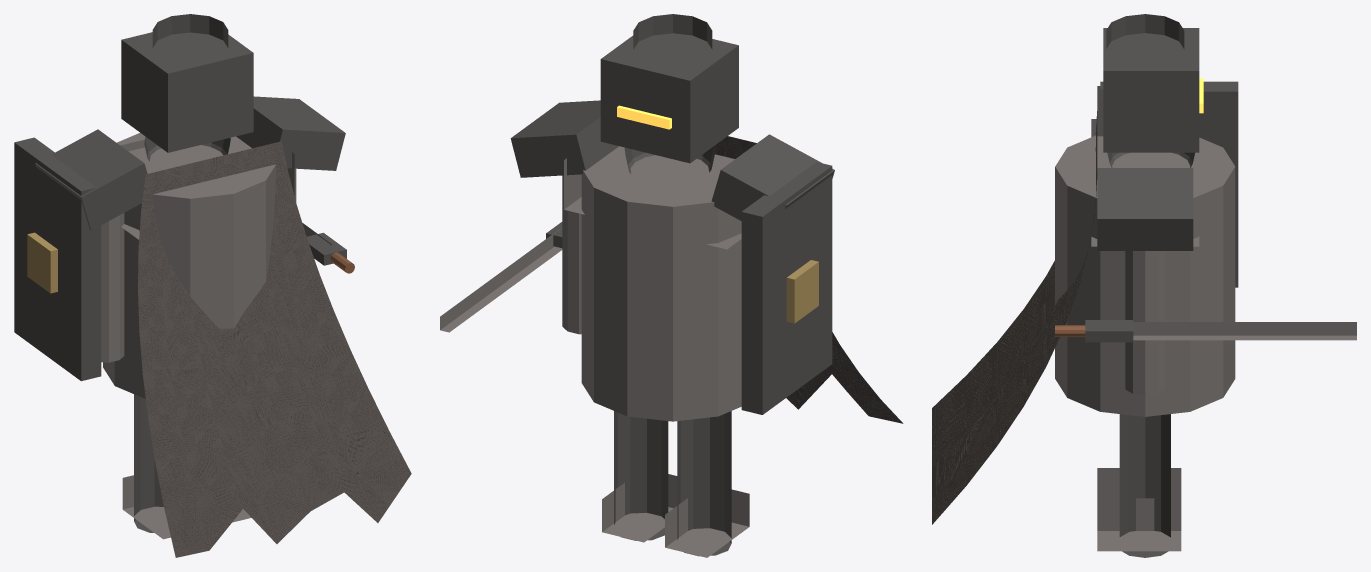
The model's file is ash_warden.glb.
The picture shows the model from 3 angles, left to right: view 1: azimuth 30°, elevation 25°; view 2: azimuth 150°, elevation 25°; view 3: azimuth 270°, elevation 25°; orthographic projection. The views are drawn at different scales.
Parts seen in each view (by area): view 1: ash_warden; view 2: ash_warden; view 3: ash_warden.
Part boxes in pixels (x1,y1,x2,y2): ash_warden: (14, 14, 411, 557); ash_warden: (440, 14, 903, 557); ash_warden: (932, 14, 1356, 557).
Size of the model in its own units: 1.08 by 1.84 by 1.41.
